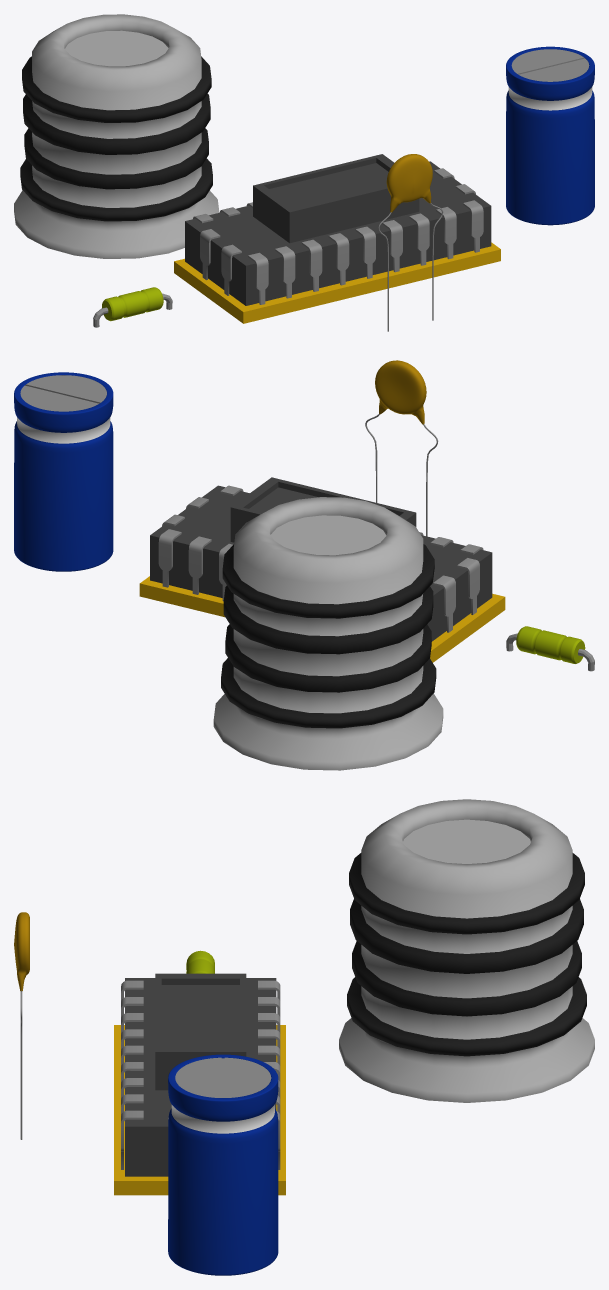
Rendered from Electronics3.fbx.
3 renders of one model, top to bottom at view 1: azimuth 30°, elevation 25°; view 2: azimuth 150°, elevation 25°; view 3: azimuth 270°, elevation 25°, orthographic. The views are drawn at different scales.
Visible parts, largest first — view 1: CylinderHouse, CylinderHouse2, pCube2, pCube4, pCube5, Three, Resister1, polySurface4, polySurface3, polySurface7, polySurface6, polySurface1 (+6 smaller); view 2: CylinderHouse, CylinderHouse2, pCube2, pCube5, pCube4, Three, Resister1, polySurface17, polySurface18, polySurface20, polySurface19; view 3: CylinderHouse, CylinderHouse2, pCube4, pCube2, pCube5, Three.
Boxes of the visible parts, left/top/right/bottom form: CylinderHouse: left=14, top=14, right=219, bottom=258; CylinderHouse2: left=506, top=46, right=594, bottom=225; pCube2: left=185, top=161, right=491, bottom=305; pCube4: left=253, top=154, right=419, bottom=243; pCube5: left=174, top=242, right=500, bottom=323; Three: left=386, top=154, right=432, bottom=212; Resister1: left=93, top=287, right=172, bottom=327; polySurface4: left=328, top=233, right=349, bottom=285; polySurface3: left=302, top=239, right=322, bottom=291; polySurface7: left=409, top=213, right=429, bottom=265; polySurface6: left=382, top=220, right=402, bottom=272; polySurface1: left=248, top=252, right=268, bottom=304; CylinderHouse: left=213, top=497, right=443, bottom=770; CylinderHouse2: left=14, top=372, right=113, bottom=571; pCube2: left=150, top=485, right=492, bottom=641; pCube5: left=139, top=576, right=505, bottom=662; pCube4: left=230, top=477, right=416, bottom=542; Three: left=375, top=360, right=426, bottom=424; Resister1: left=506, top=626, right=594, bottom=671; polySurface17: left=188, top=536, right=211, bottom=594; polySurface18: left=158, top=529, right=181, bottom=587; polySurface20: left=457, top=558, right=479, bottom=614; polySurface19: left=433, top=575, right=455, bottom=632; CylinderHouse: left=339, top=799, right=594, bottom=1102; CylinderHouse2: left=168, top=1054, right=278, bottom=1275; pCube4: left=155, top=973, right=246, bottom=1090; pCube2: left=125, top=978, right=276, bottom=1176; pCube5: left=114, top=1025, right=285, bottom=1195; Three: left=14, top=912, right=29, bottom=990.
Size of the model in its own units: 6.83 by 2.32 by 5.49.
